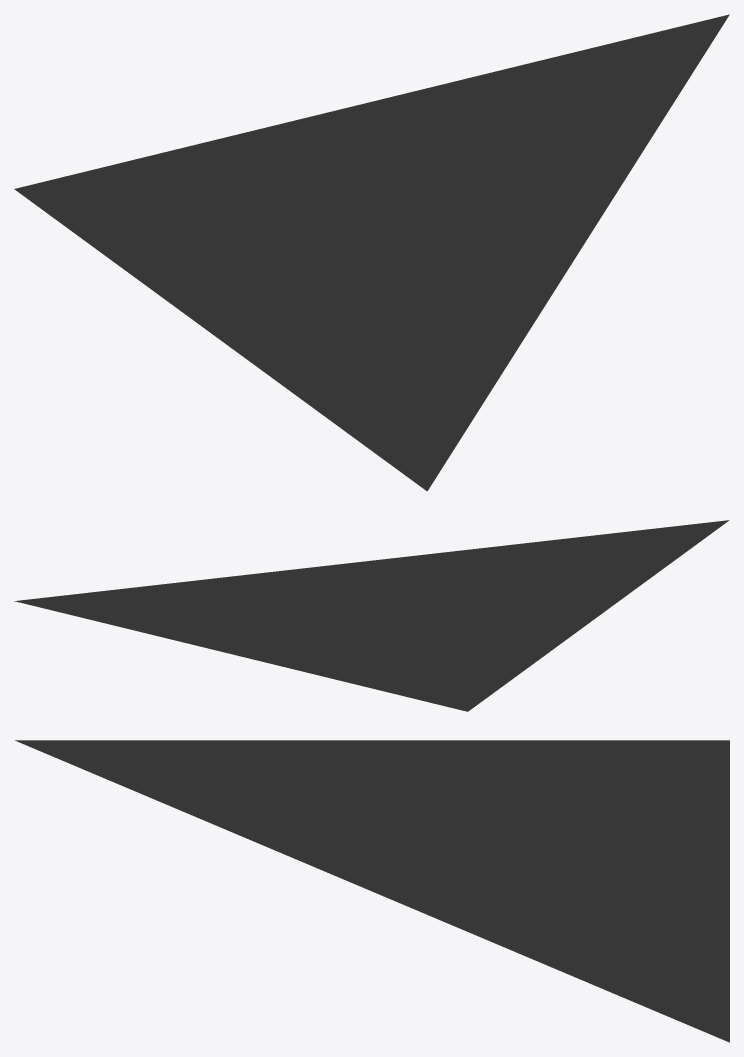
The model's file is mats_lo.glb.
3 renders of one model, top to bottom at view 1: azimuth 30°, elevation 25°; view 2: azimuth 150°, elevation 25°; view 3: azimuth 270°, elevation 25°, orthographic. The views are drawn at different scales.
Visible parts, largest first — view 1: Traffic light_Traffic light_ICity_Default.001_Baked; view 2: Traffic light_Traffic light_ICity_Default.001_Baked; view 3: Traffic light_Traffic light_ICity_Default.001_Baked.
Boxes of the visible parts, x1,y1,x2,y2 form: Traffic light_Traffic light_ICity_Default.001_Baked: [14, 14, 729, 491]; Traffic light_Traffic light_ICity_Default.001_Baked: [14, 520, 729, 711]; Traffic light_Traffic light_ICity_Default.001_Baked: [15, 740, 729, 1042].
Size of the model in its own units: 0.001 by 0 by 0.001.
Materials: 243 (209 with a texture image).
